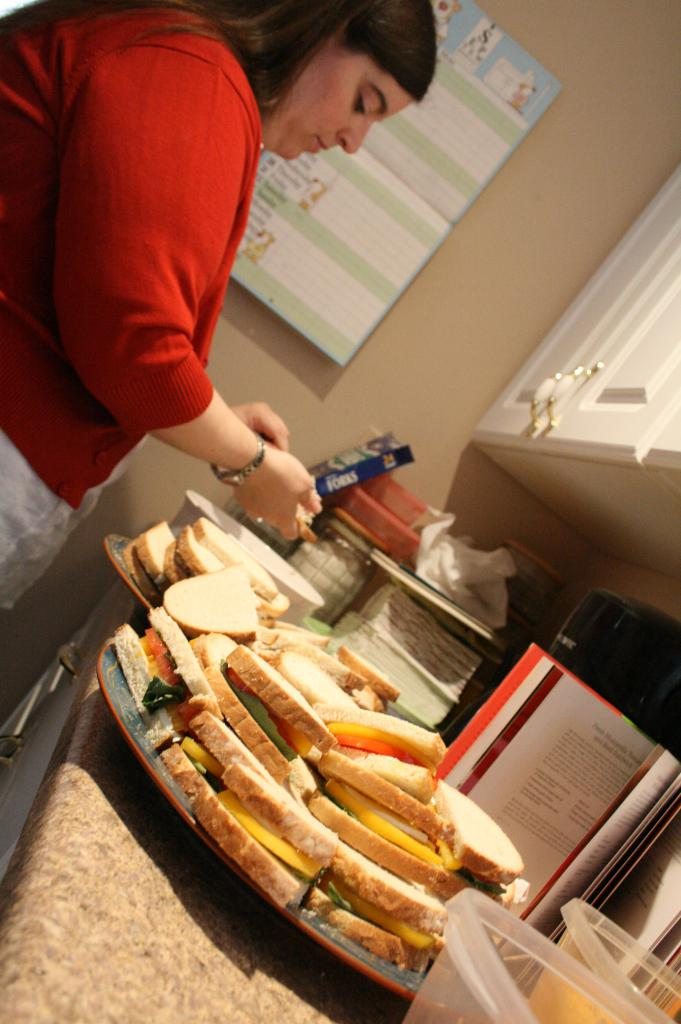sandwich: (124, 514, 527, 965)
